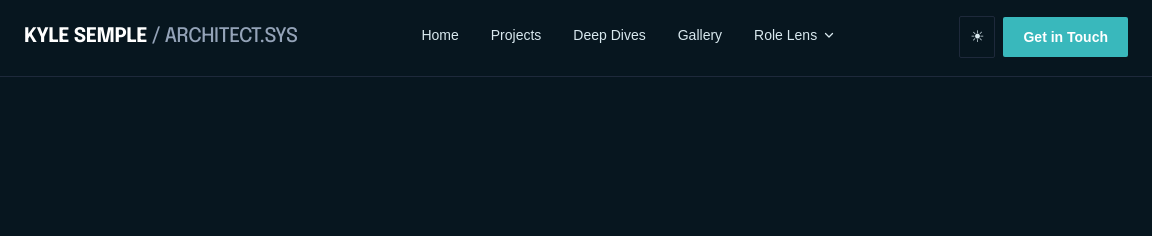
it: TopNav active states › marks Spatial Systems Architect active on its track
The width and height of the screenshot is (1152, 236).
Note: Open the dropdown
Click the button "Role Lens" at (795, 36), box [754,24,835,48]
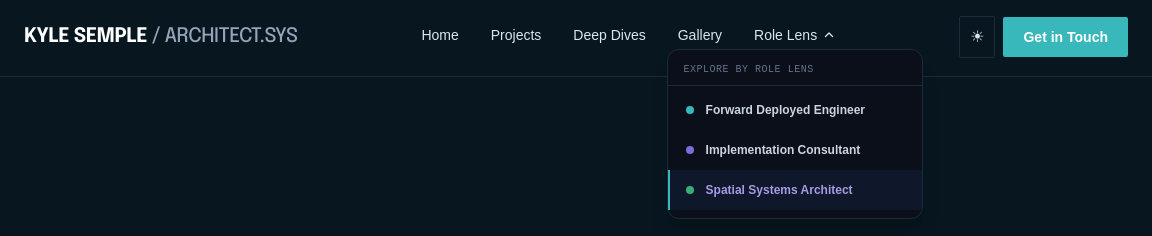
Result: the menu item "Spatial Systems Architect" is shown at [668,170,922,210]
